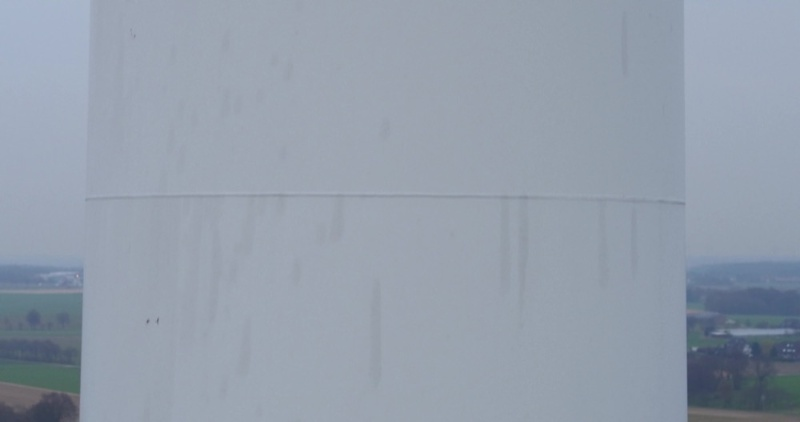weldseam: (85, 182, 688, 215)
